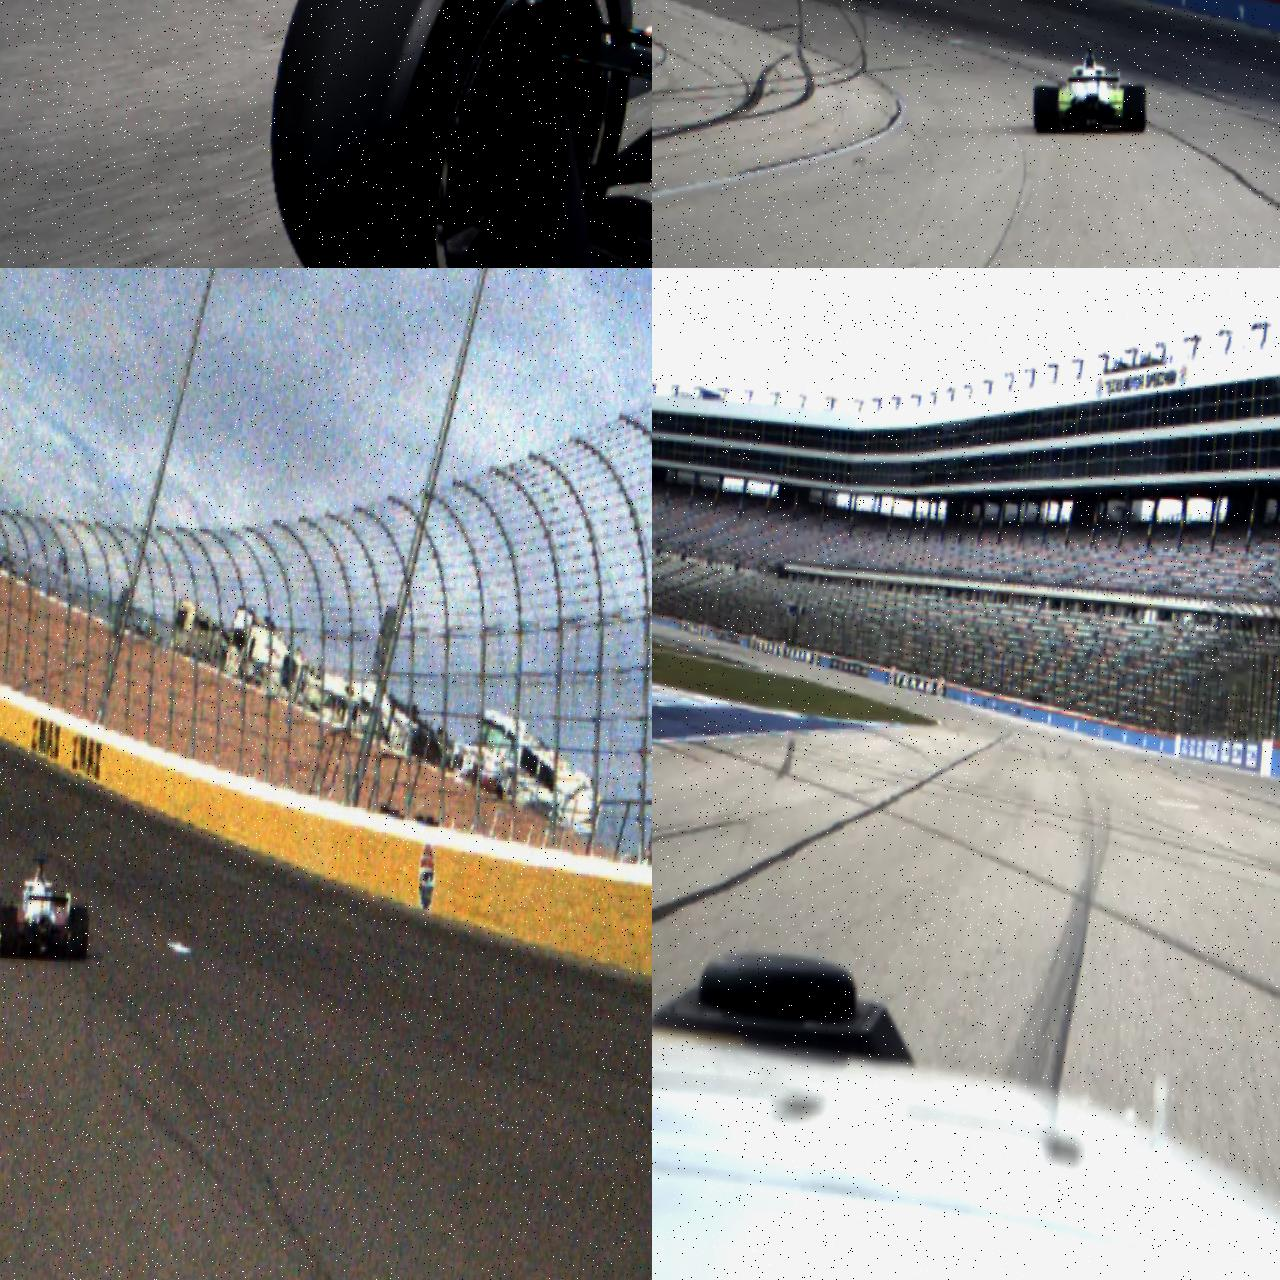AV: (1032, 42, 1151, 141), (0, 849, 94, 964)
Wheel: (256, 0, 646, 268), (1122, 84, 1149, 135), (1032, 86, 1060, 134), (68, 906, 91, 962), (0, 905, 18, 959)
